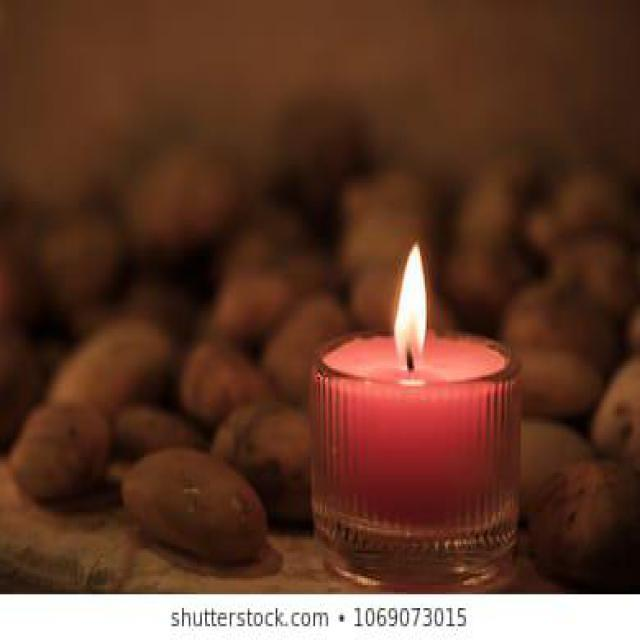Fire: (393, 242, 428, 370)
